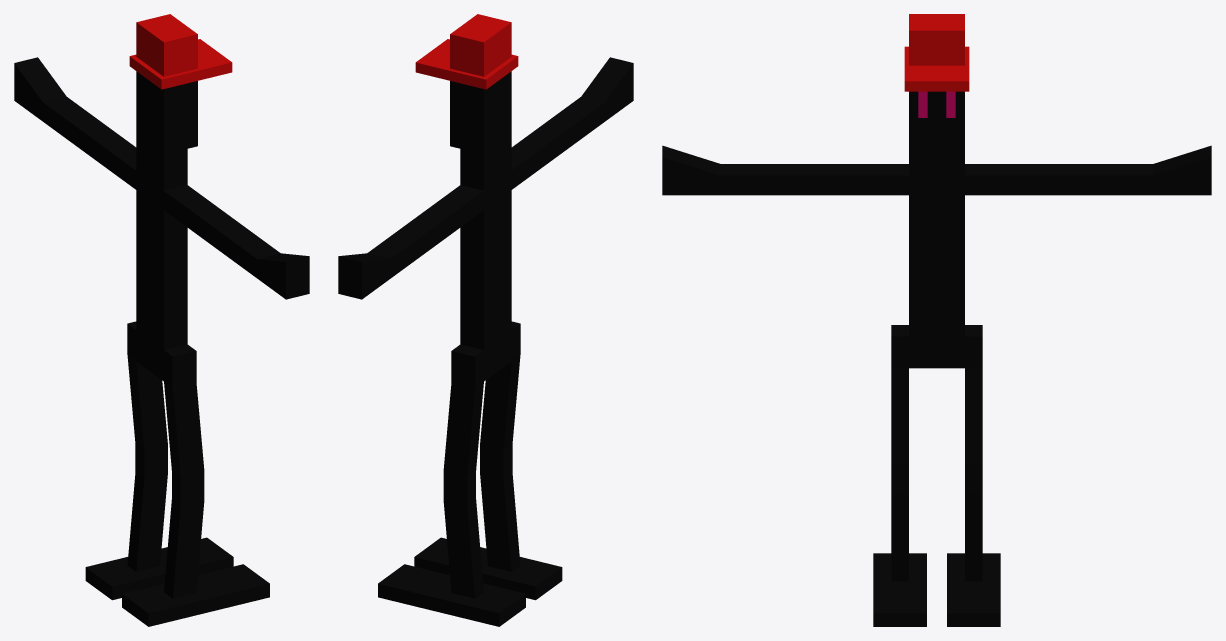
Rendered from Player.obj.
3 views of the same model, side by side, from view 1: azimuth 30°, elevation 25°; view 2: azimuth 150°, elevation 25°; view 3: azimuth 270°, elevation 25° (orthographic).
Visible parts, largest first — view 1: corpo_Material.001, corpo_Material.002; view 2: corpo_Material.001, corpo_Material.002; view 3: corpo_Material.001, corpo_Material.002.
Boxes of the visible parts, box(x1,y1,x2,y2) form: corpo_Material.001: box(14, 57, 309, 626); corpo_Material.002: box(129, 14, 232, 89); corpo_Material.001: box(338, 57, 633, 626); corpo_Material.002: box(415, 14, 518, 89); corpo_Material.001: box(662, 91, 1211, 626); corpo_Material.002: box(904, 14, 969, 91).
Bounding box in the file's own units: 2 × 8.86 × 7.75.
